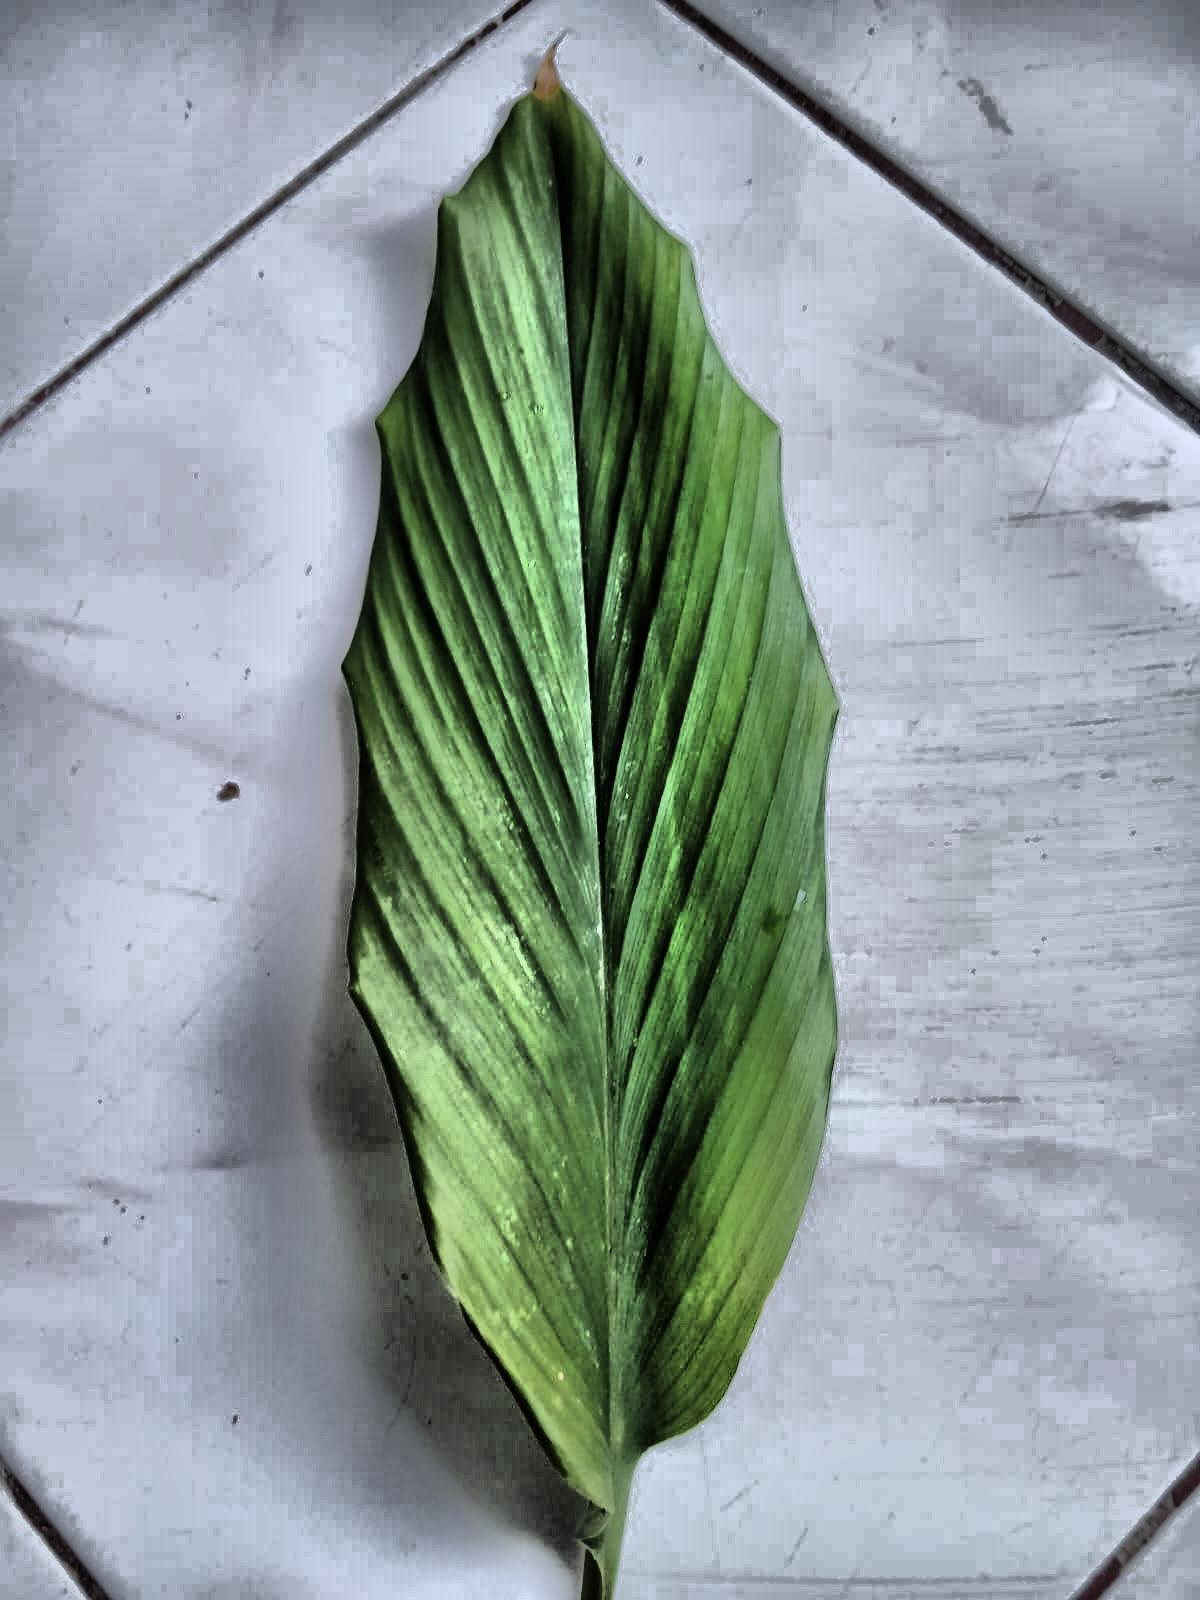daun kunyit: (344, 57, 837, 1599)
